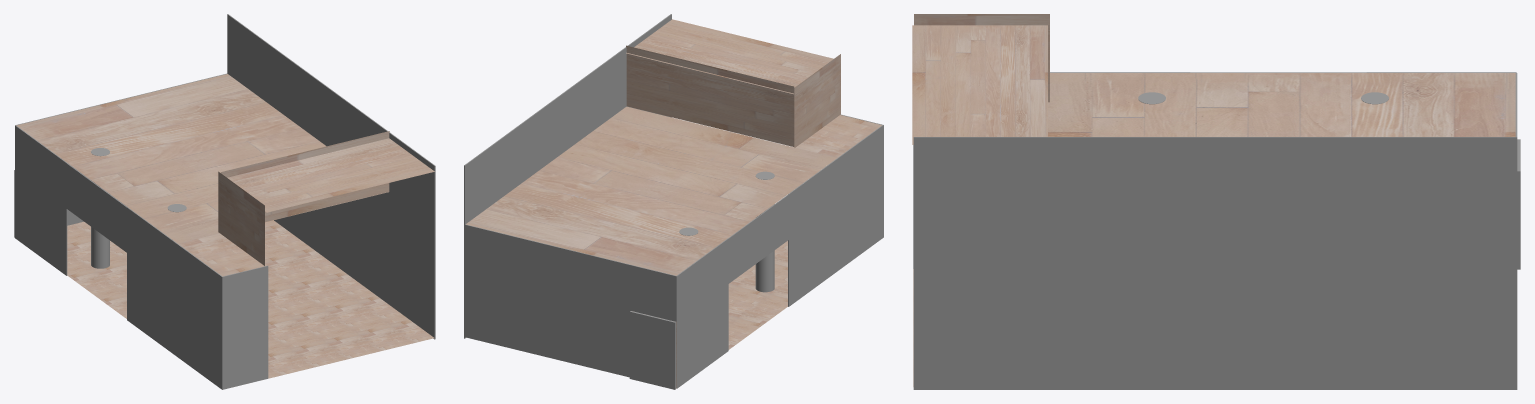
The model's file is objteste.obj.
3 views of the same model, side by side, from view 1: azimuth 30°, elevation 25°; view 2: azimuth 150°, elevation 25°; view 3: azimuth 270°, elevation 25° (orthographic). The views are drawn at different scales.
Visible parts, largest first — view 1: backwall_Cube; view 2: backwall_Cube; view 3: backwall_Cube.
Boxes of the visible parts, <box> form: backwall_Cube: <box>14,14,435,389</box>; backwall_Cube: <box>464,14,883,389</box>; backwall_Cube: <box>912,14,1520,389</box>.
Size of the model in its own units: 23.17 by 18.18 by 39.28.
